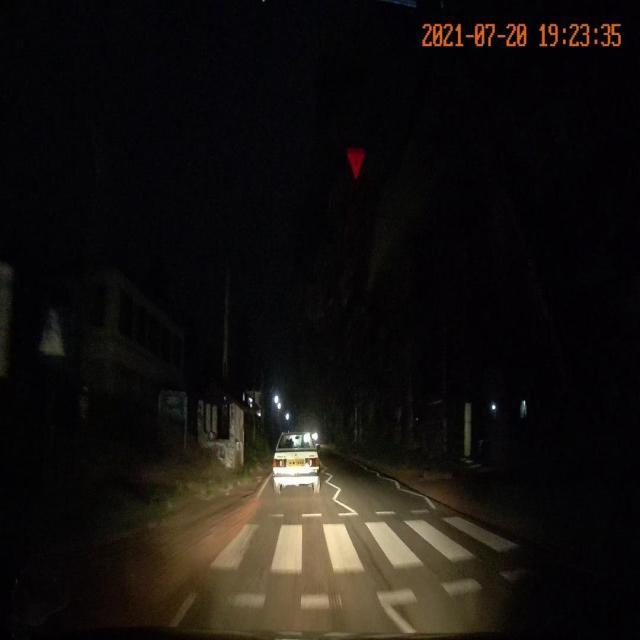Crosswalk: (190, 502, 554, 617)
